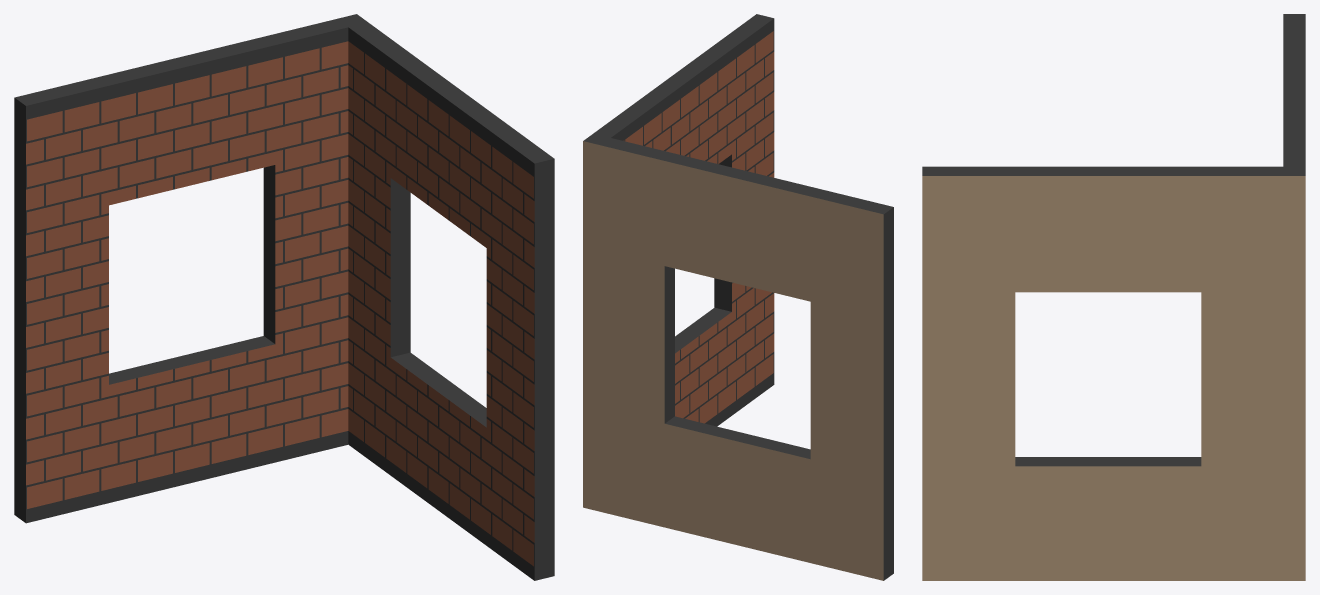
Rendered from Wall2_C10_12.fbx.
3 views of the same model, side by side, from view 1: azimuth 30°, elevation 25°; view 2: azimuth 150°, elevation 25°; view 3: azimuth 270°, elevation 25° (orthographic). The views are drawn at different scales.
Visible parts, largest first — view 1: Wall2_C10_12; view 2: Wall2_C10_12; view 3: Wall2_C10_12.
Part boxes in pixels (box(x1,y1,x2,y2)): Wall2_C10_12: box(14, 14, 554, 580); Wall2_C10_12: box(583, 14, 893, 580); Wall2_C10_12: box(922, 14, 1305, 580).
Bounding box in the file's own units: 258 × 300 × 258.
